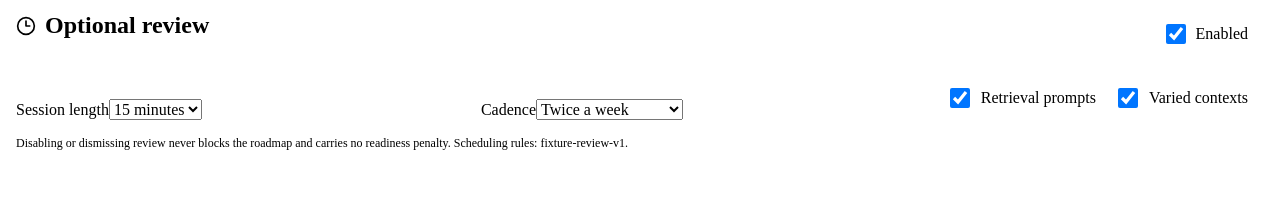
Scenario: goal notebook and review UI › persists the selected review controls for the current goal
Select "25 minutes" in the dropdown labelled "Session length" at (155, 110), box [109,99,202,120]
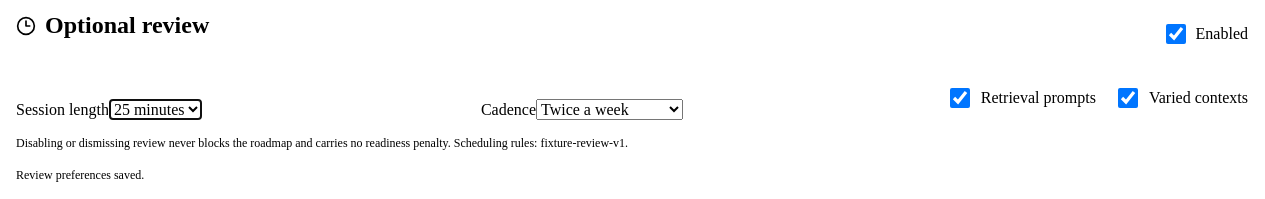
Expected: the text "Review preferences saved." is shown, [16,168,144,182]
